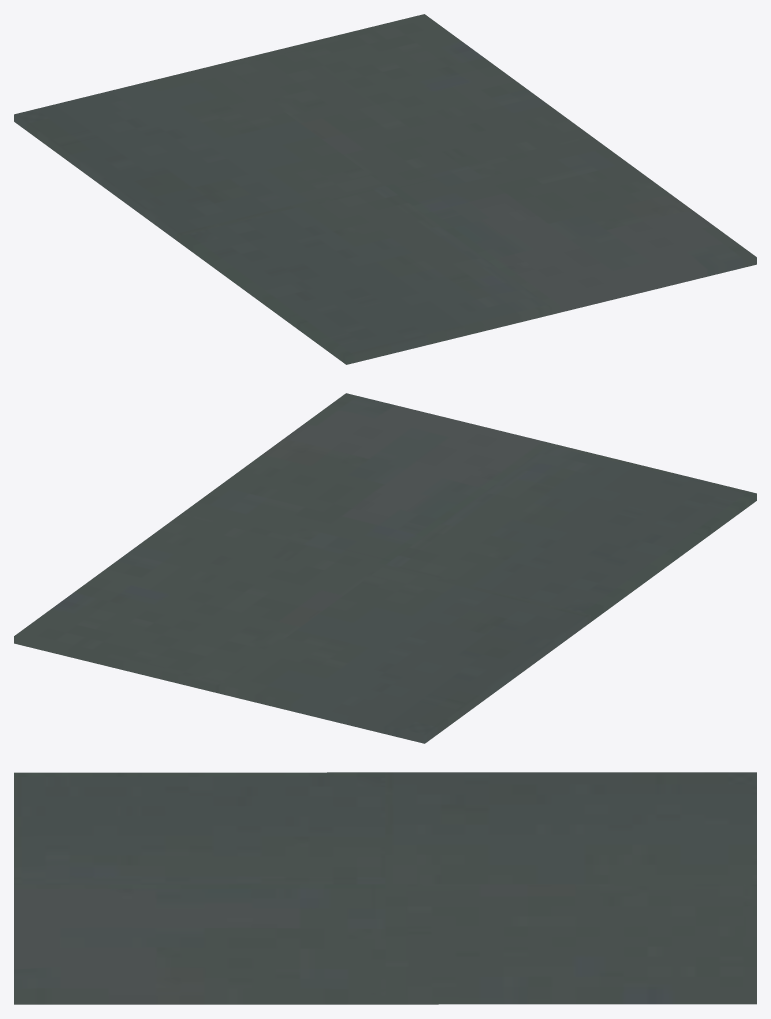
3 views of the same model, one above another, from view 1: azimuth 30°, elevation 25°; view 2: azimuth 150°, elevation 25°; view 3: azimuth 270°, elevation 25° (orthographic). The views are drawn at different scales.
Parts seen in each view (by area): view 1: 30436272704370637623_0; view 2: 30436272704370637623_0; view 3: 30436272704370637623_0.
Part boxes in pixels (x1=…): 30436272704370637623_0: x1=14, y1=14, x2=756, y2=364; 30436272704370637623_0: x1=14, y1=393, x2=756, y2=743; 30436272704370637623_0: x1=14, y1=772, x2=756, y2=1004.
Size of the model in its own units: 27.32 by 0.625 by 38.26.
1 material, 1 textured.
